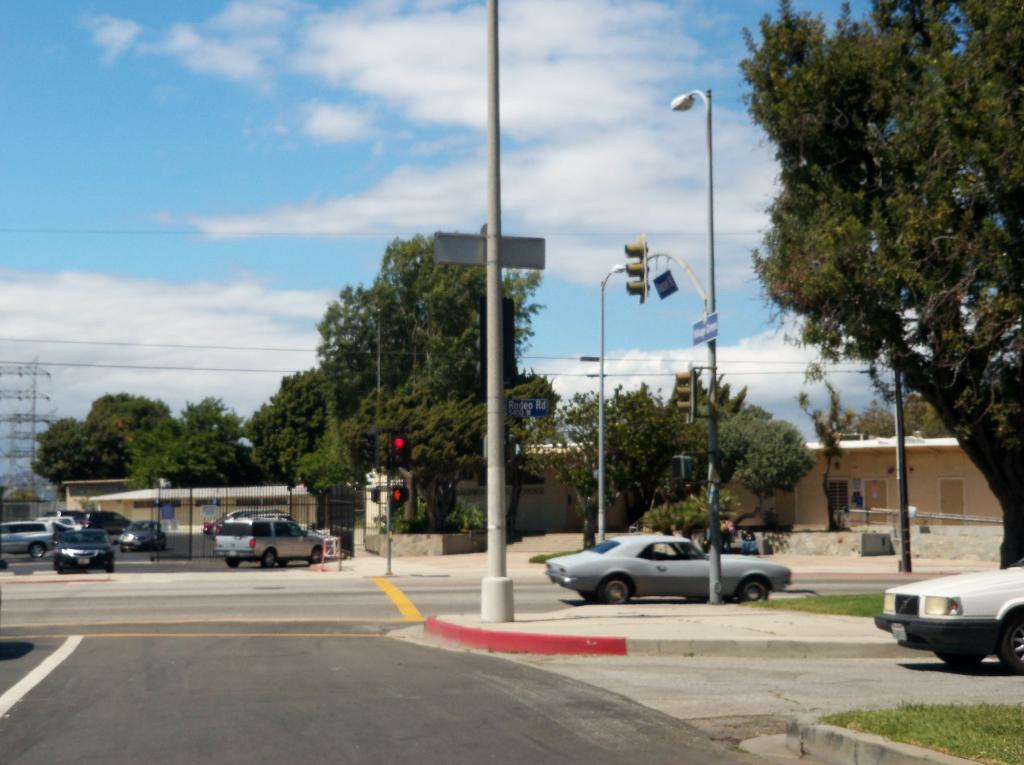red_light: (388, 433, 409, 467)
